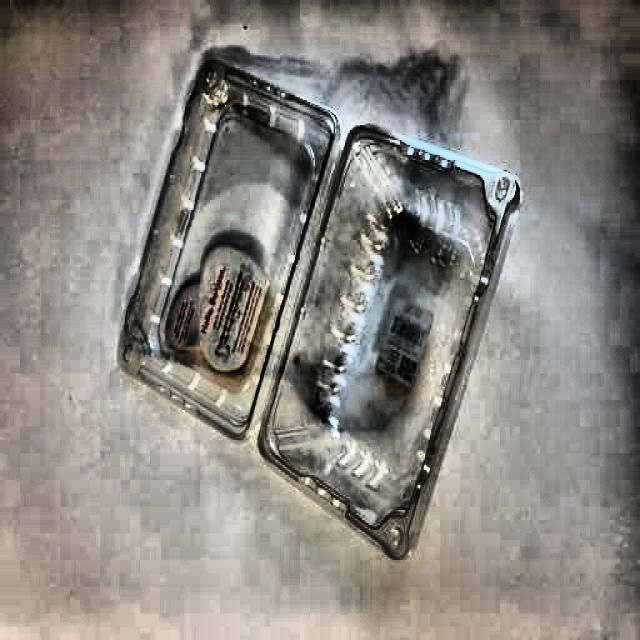plastic: (116, 59, 511, 543)
